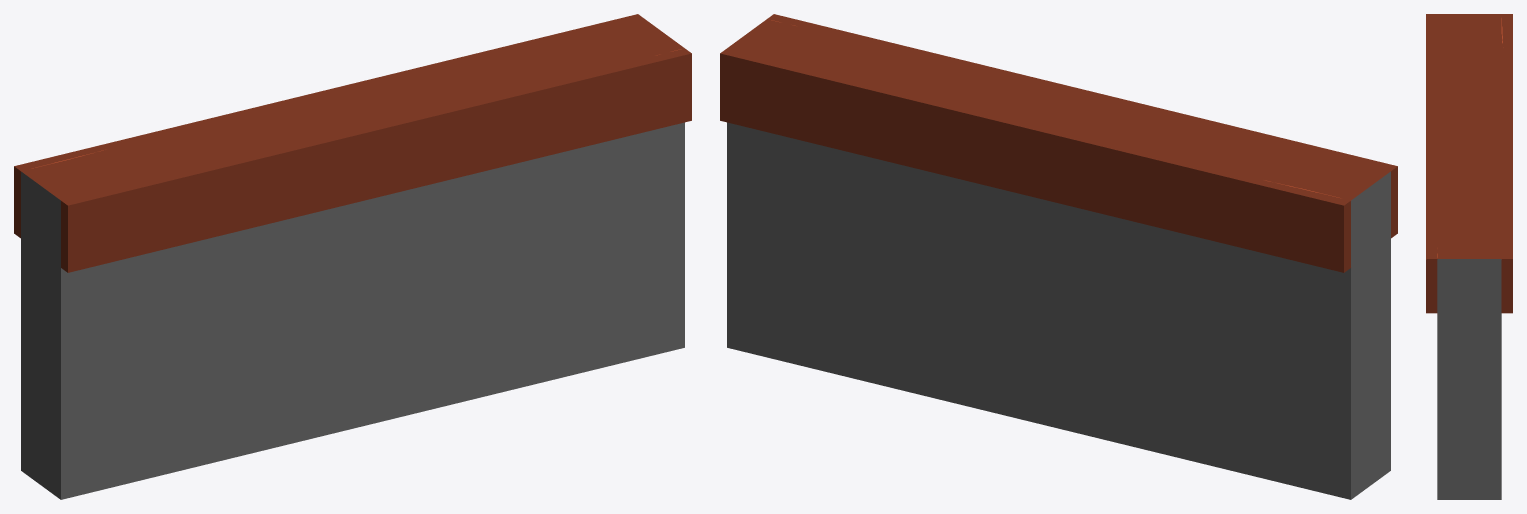
The model's file is wall.fbx.
3 views of the same model, side by side, from view 1: azimuth 30°, elevation 25°; view 2: azimuth 150°, elevation 25°; view 3: azimuth 270°, elevation 25° (orthographic). The views are drawn at different scales.
Parts seen in each view (by area): view 1: Wall; view 2: Wall; view 3: Wall.
Part boxes in pixels (<box>): Wall: <box>14,14,691,499</box>; Wall: <box>720,14,1397,499</box>; Wall: <box>1426,14,1512,499</box>.
Size of the model in its own units: 18.05 by 8.28 by 2.7.
